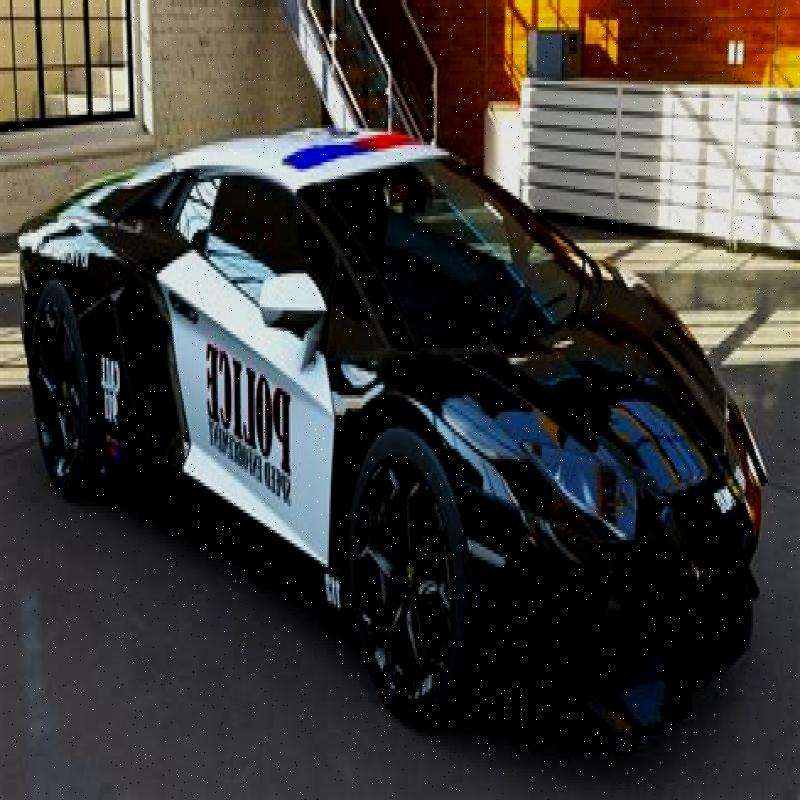AmbulanceSiren: (272, 105, 445, 193)
